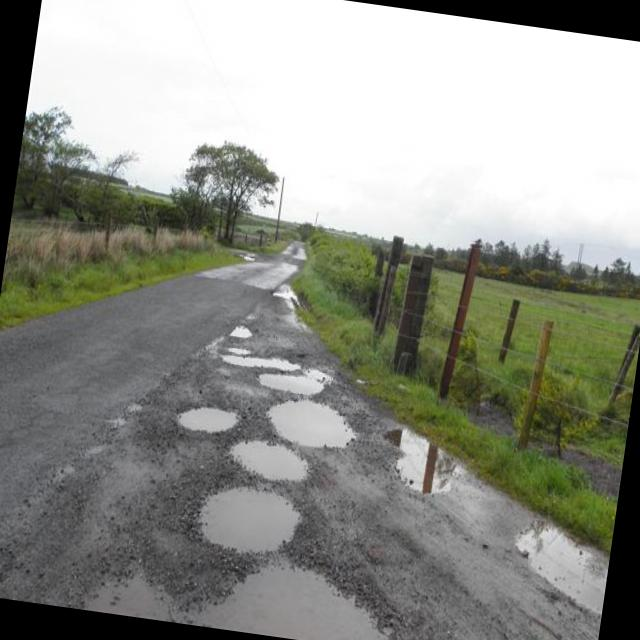Potholes: (92, 528, 407, 640), (175, 472, 323, 592), (486, 508, 614, 640), (370, 420, 476, 518), (259, 383, 366, 468), (215, 337, 332, 403), (220, 430, 322, 494), (169, 392, 246, 446), (216, 316, 264, 346)
